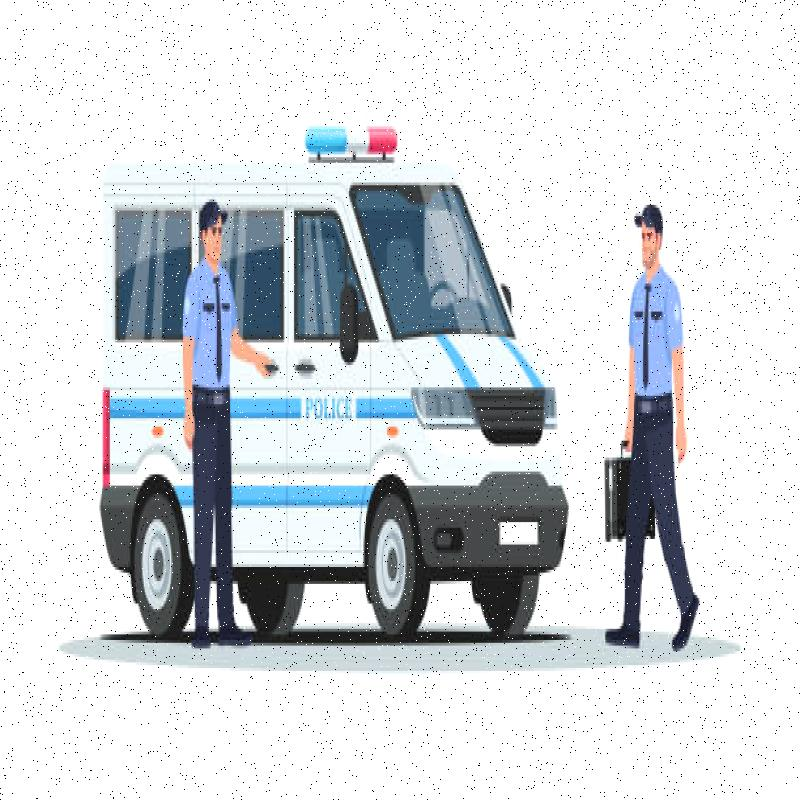AmbulanceSiren: (302, 116, 405, 170)
